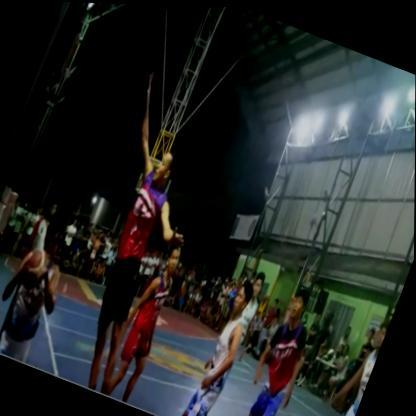basketball: (14, 242, 55, 302)
